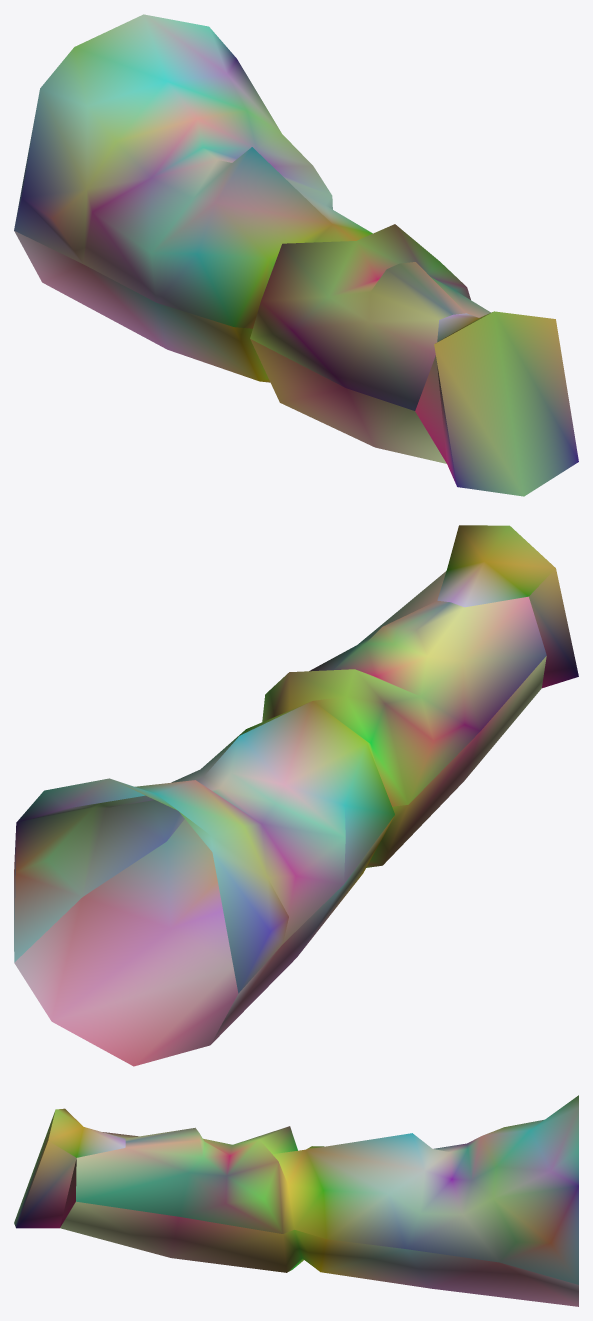
File: TotemPole.glb
The picture shows the model from 3 angles, top to bottom: view 1: azimuth 30°, elevation 25°; view 2: azimuth 150°, elevation 25°; view 3: azimuth 270°, elevation 25°; orthographic projection. The views are drawn at different scales.
Parts seen in each view (by area): view 1: MeshNode_0; view 2: MeshNode_0; view 3: MeshNode_0.
Part boxes in pixels (x1,y1,x2,y2): MeshNode_0: [14, 14, 578, 496]; MeshNode_0: [14, 525, 578, 1066]; MeshNode_0: [14, 1095, 578, 1306].
Bounding box in the file's own units: 3.44 × 3.62 × 9.41.
